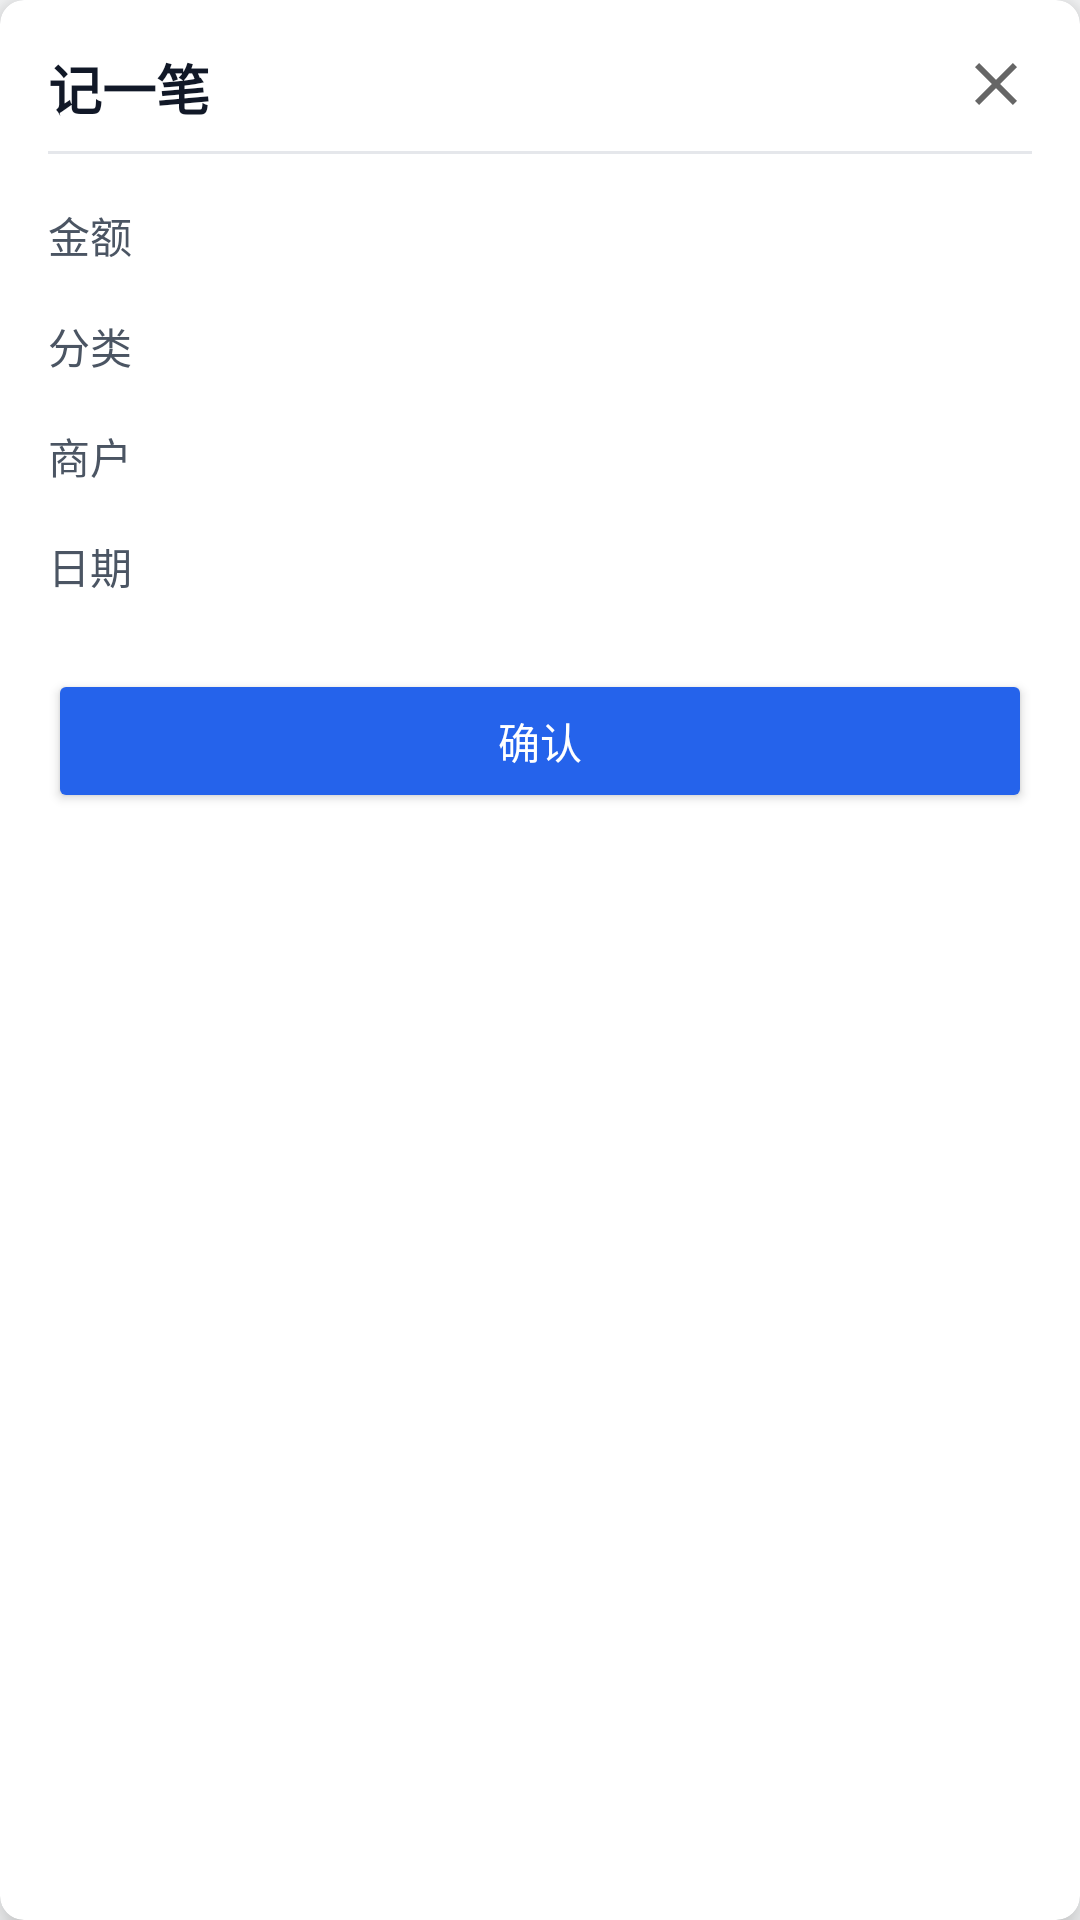

Icon bounding boxes for this 1080×1920 phone screenshot, format region(x1, y1, x2, y2):
取消: region(975, 63, 1017, 105)
